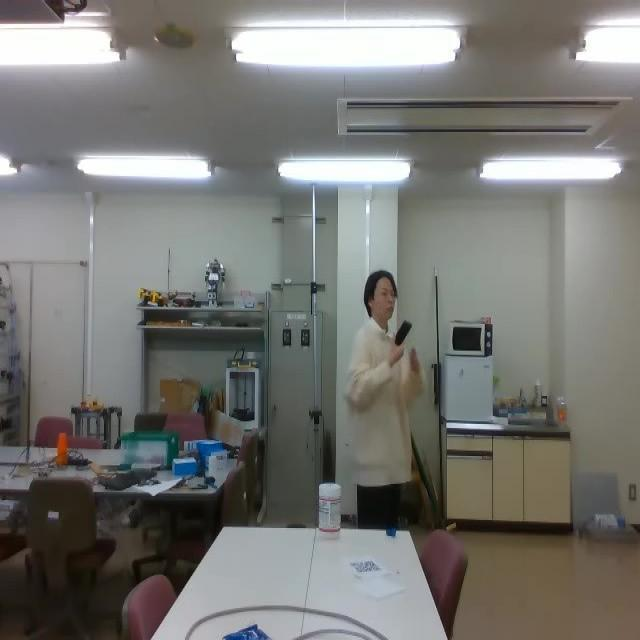Phone: (393, 317, 413, 347)
